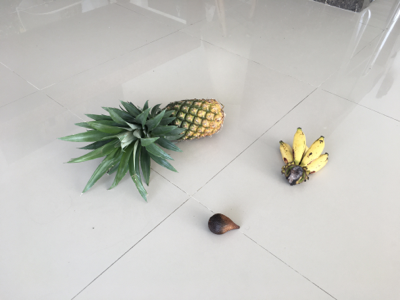banana: (279, 128, 330, 187)
pineapple: (57, 99, 225, 199)
snake fruit: (209, 214, 241, 236)
